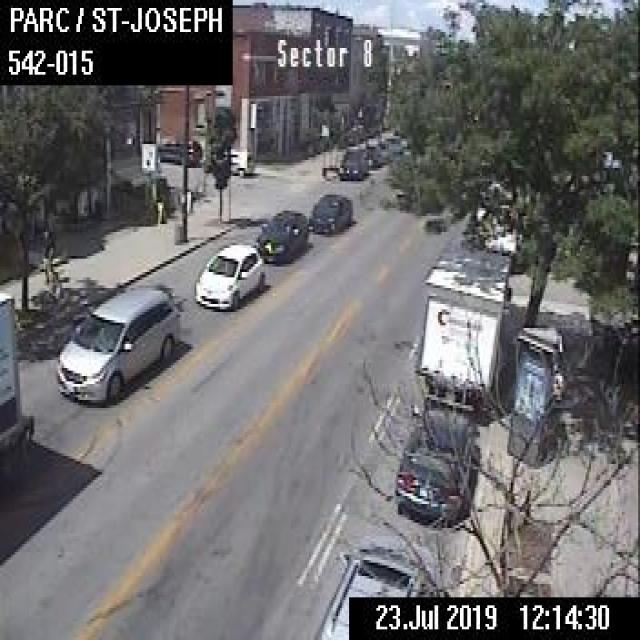pedestrian: (38, 222, 56, 283)
vehicle: (412, 239, 510, 412), (53, 280, 178, 405), (313, 528, 438, 637), (392, 404, 476, 522), (193, 240, 263, 310), (0, 288, 22, 485), (253, 209, 306, 263), (306, 192, 351, 234), (154, 133, 202, 163), (337, 145, 367, 179), (227, 144, 253, 173), (362, 144, 380, 167)
